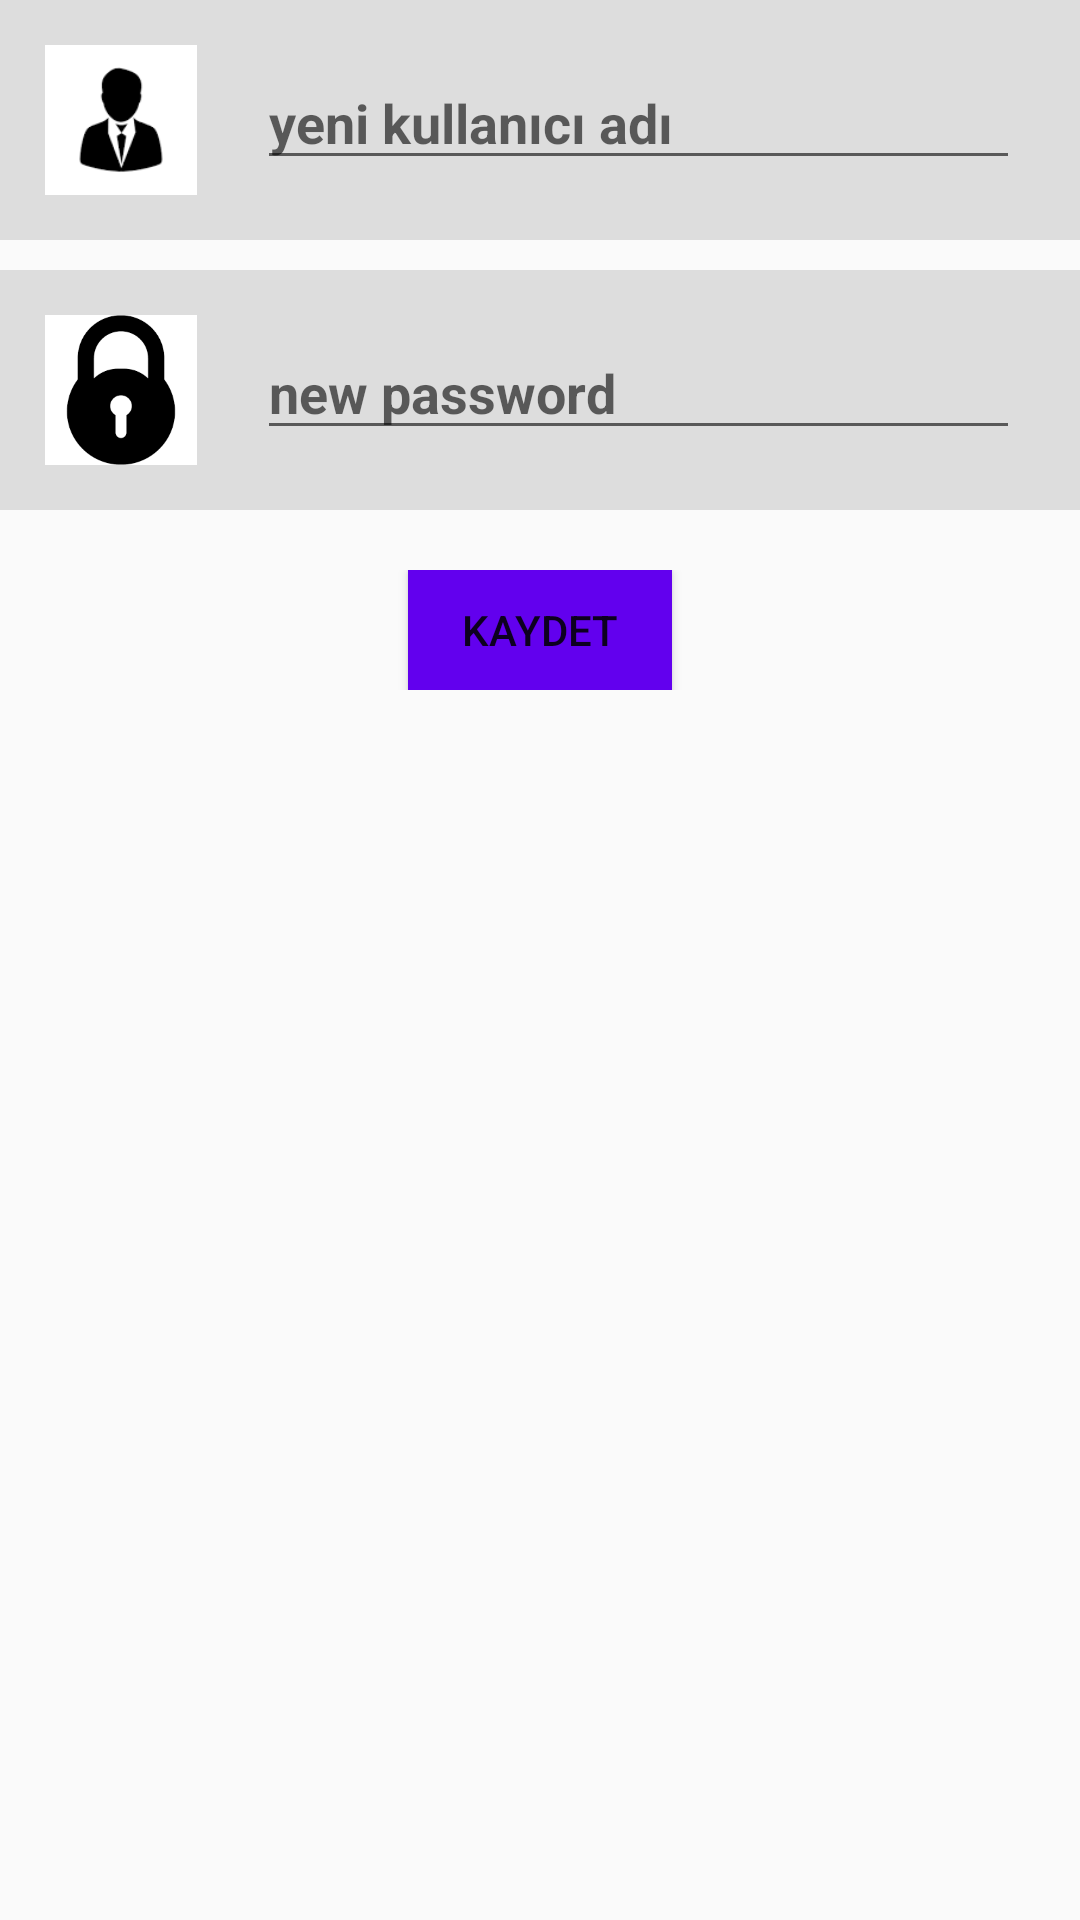

Icon click points for this 1080 x 1920 phone screenshot, format [x,y]:
foto: [121,120]
kilit: [121,390]
